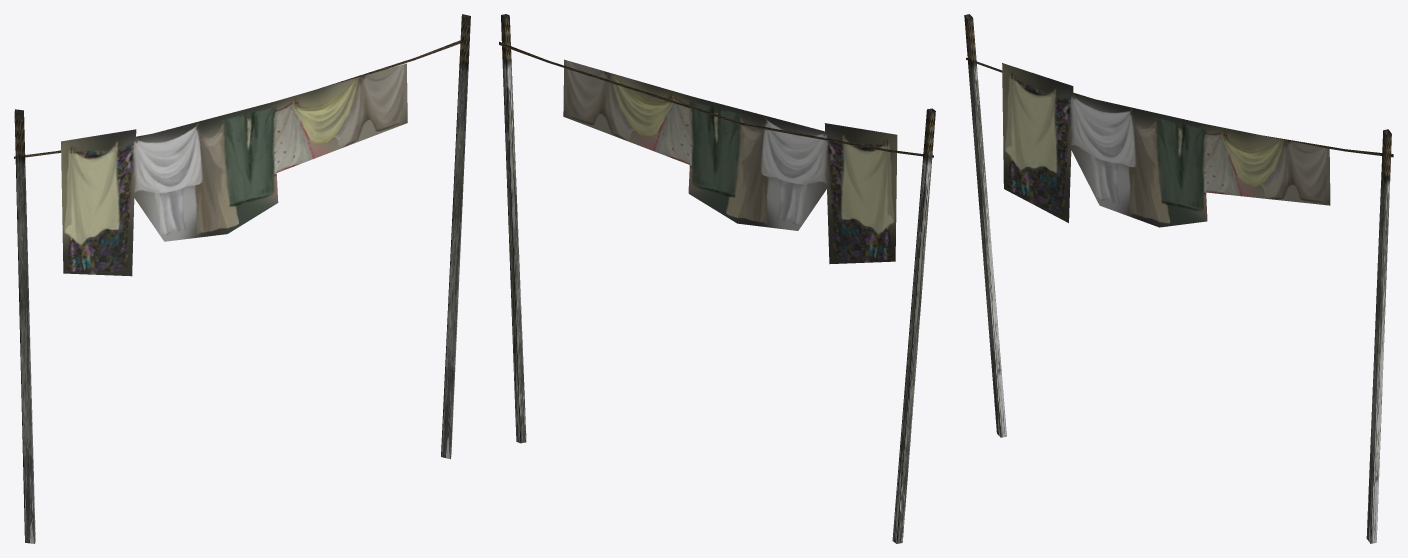
File: LaundryRope.fbx
3 views of the same model, side by side, from view 1: azimuth 30°, elevation 25°; view 2: azimuth 150°, elevation 25°; view 3: azimuth 330°, elevation 25° (orthographic). The views are drawn at different scales.
Parts seen in each view (by area): view 1: pPlane4, nurbsToPoly26, nurbsToPoly42; view 2: pPlane4, nurbsToPoly26, nurbsToPoly42, nurbsToPoly27; view 3: pPlane4, nurbsToPoly42, nurbsToPoly26.
Part boxes in pixels (<box>): pPlane4: <box>61,63,407,276</box>; nurbsToPoly26: <box>14,109,35,543</box>; nurbsToPoly42: <box>441,14,470,459</box>; pPlane4: <box>563,59,897,264</box>; nurbsToPoly26: <box>892,108,935,543</box>; nurbsToPoly42: <box>501,14,526,443</box>; nurbsToPoly27: <box>499,41,933,157</box>; pPlane4: <box>1002,63,1330,227</box>; nurbsToPoly42: <box>1366,129,1391,543</box>; nurbsToPoly26: <box>964,14,1006,437</box>.
Bounding box in the file's own units: 1742 × 1651 × 132.
Materials: 2 (2 with a texture image).
